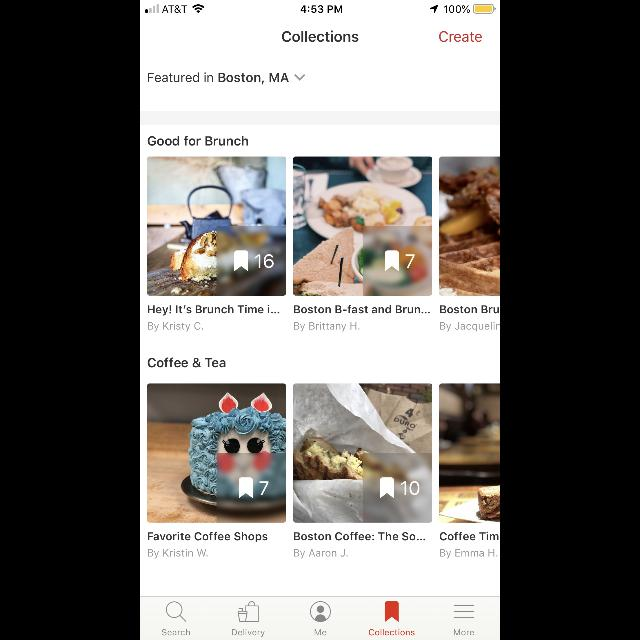icon: (310, 600, 332, 622), (166, 602, 187, 622), (238, 602, 258, 622), (385, 250, 399, 272), (234, 250, 248, 272), (454, 604, 474, 618), (385, 602, 399, 622), (239, 478, 253, 498), (380, 478, 394, 498), (294, 74, 306, 82)
image: (294, 383, 432, 522), (148, 383, 286, 522), (148, 157, 286, 296), (294, 157, 432, 296), (438, 383, 499, 522), (440, 157, 500, 296)
text: (148, 73, 290, 85), (148, 304, 280, 316), (294, 304, 430, 314), (148, 532, 268, 542), (294, 532, 426, 540), (148, 136, 248, 146), (282, 30, 358, 42), (148, 358, 226, 368), (294, 322, 360, 332), (440, 322, 500, 332), (148, 549, 208, 559), (440, 549, 498, 559), (148, 322, 204, 332), (294, 549, 348, 559), (440, 532, 500, 540), (439, 305, 498, 313), (438, 32, 482, 42), (369, 628, 415, 636), (400, 481, 420, 495), (232, 629, 266, 637), (256, 254, 274, 268), (162, 629, 190, 635), (454, 629, 474, 635), (260, 481, 268, 495), (406, 254, 414, 268), (315, 629, 327, 635)
uppertaskbar: (140, 0, 500, 14)
